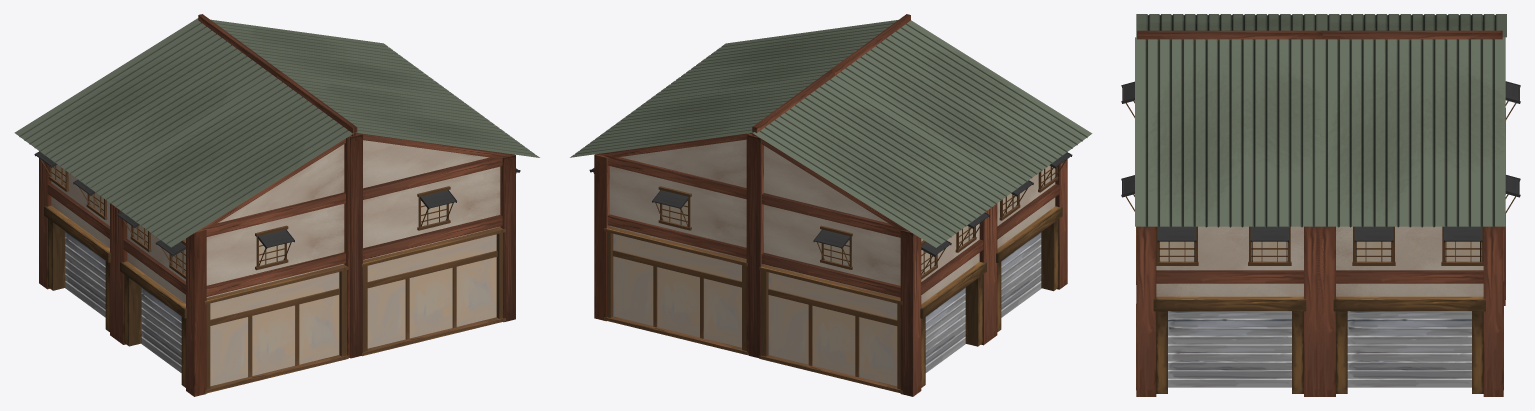
File: Nha 16.fbx
3 renders of one model, left to right at view 1: azimuth 30°, elevation 25°; view 2: azimuth 150°, elevation 25°; view 3: azimuth 270°, elevation 25°, orthographic. The views are drawn at different scales.
Parts seen in each view (by area): view 1: Plane.093; view 2: Plane.093; view 3: Plane.093.
Part boxes in pixels (x1,y1,x2,y2): Plane.093: (14, 14, 539, 396); Plane.093: (570, 14, 1092, 396); Plane.093: (1121, 14, 1520, 396).
Bounding box in the file's own units: 1935 × 1156 × 1536.
